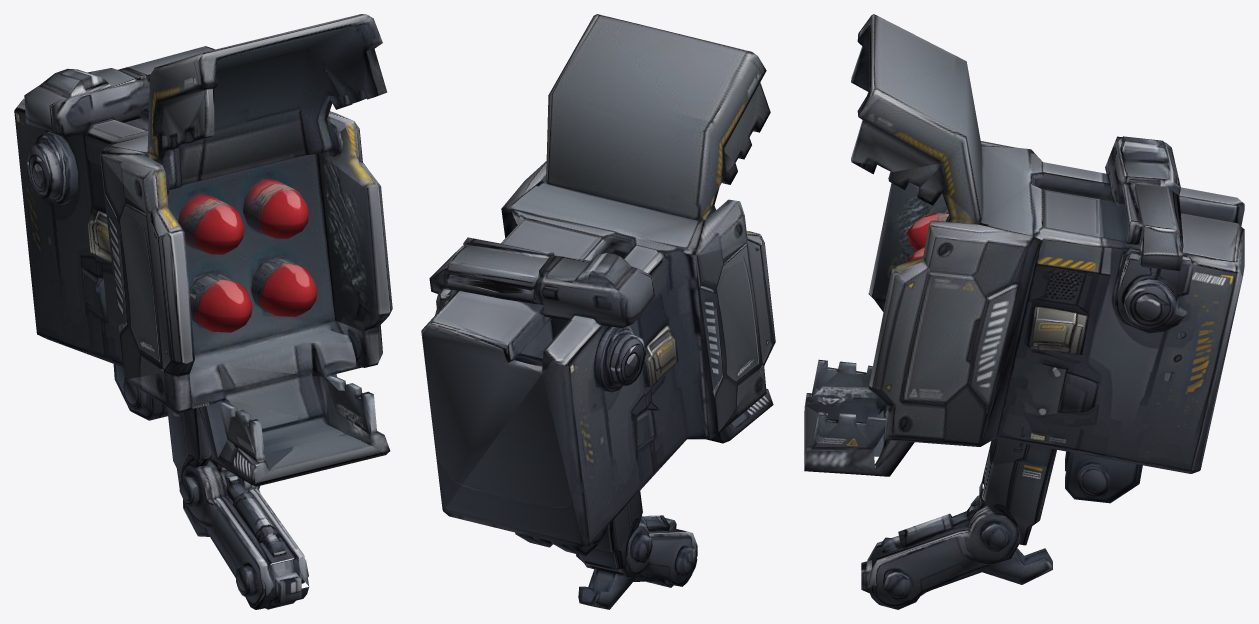
The picture shows the model from 3 angles, left to right: view 1: azimuth 30°, elevation 25°; view 2: azimuth 150°, elevation 25°; view 3: azimuth 270°, elevation 25°; orthographic projection. The views are drawn at different scales.
Parts seen in each view (by area): view 1: gun; view 2: gun; view 3: gun.
Part boxes in pixels (box(x1,y1,x2,y2)): gun: box(14, 14, 392, 609); gun: box(421, 14, 775, 609); gun: box(804, 14, 1244, 609).
Bounding box in the file's own units: 0.4764 × 1.2 × 0.8725.
Materials: 1 (1 with a texture image).
